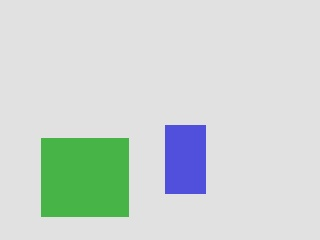tall_box: (165, 125, 205, 193)
wide_box: (41, 138, 128, 216)
